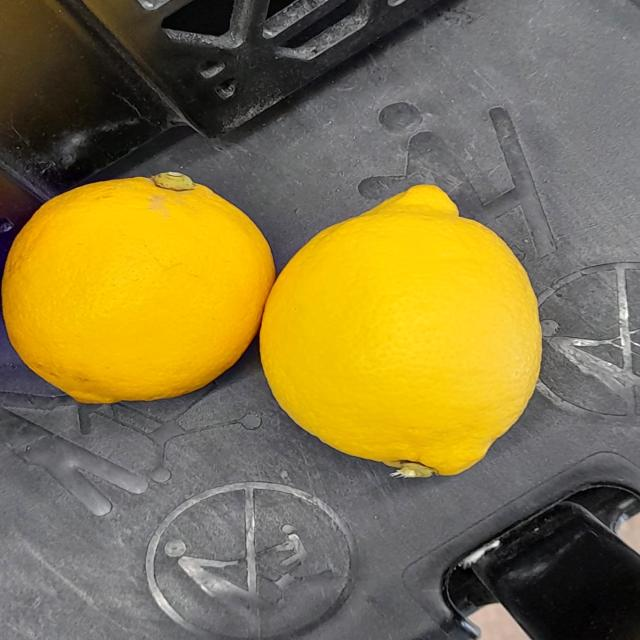lemon: (252, 168, 587, 488), (4, 164, 280, 414)
